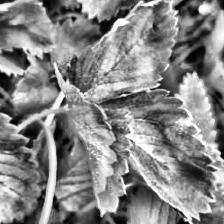Powdery Mildew Leaf: (53, 62, 134, 217), (65, 0, 178, 103)
